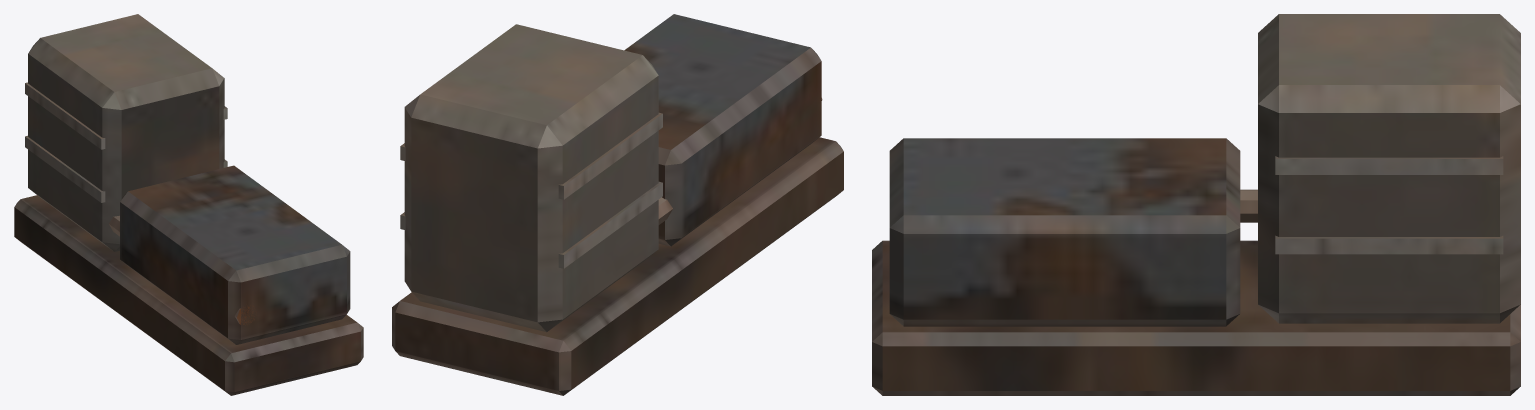
Rendered from cargo-bay-inner-se.glb.
3 renders of one model, left to right at view 1: azimuth 30°, elevation 25°; view 2: azimuth 150°, elevation 25°; view 3: azimuth 270°, elevation 25°, orthographic. The views are drawn at different scales.
Visible parts, largest first — view 1: body; view 2: body; view 3: body.
Part boxes in pixels (x1=…): body: x1=14, y1=14, x2=363, y2=395; body: x1=392, y1=14, x2=843, y2=395; body: x1=872, y1=14, x2=1520, y2=395.
Size of the model in its own units: 0.68 by 0.95 by 1.85.
Materials: 1 (1 with a texture image).
